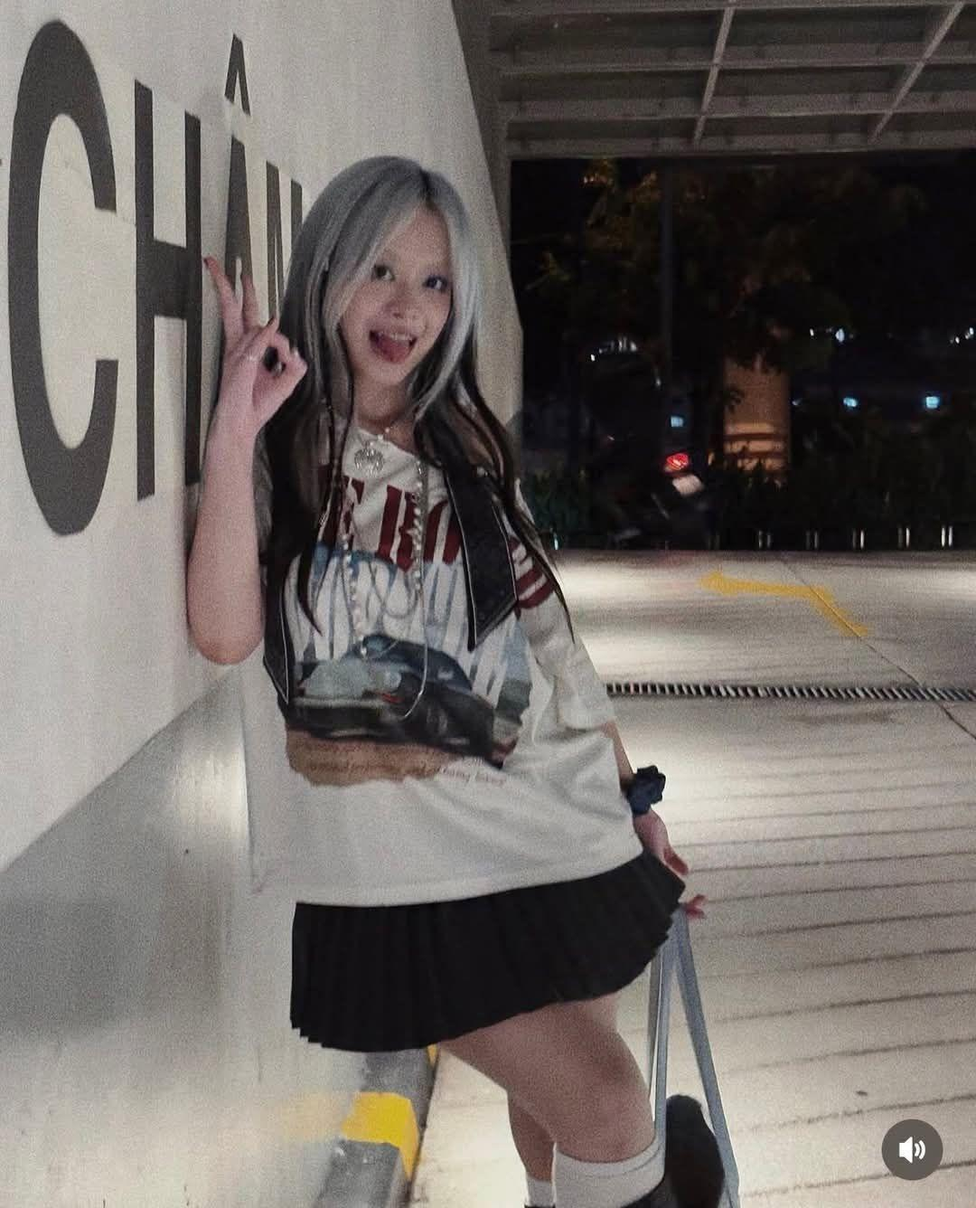non-dog: (182, 155, 708, 1208)
